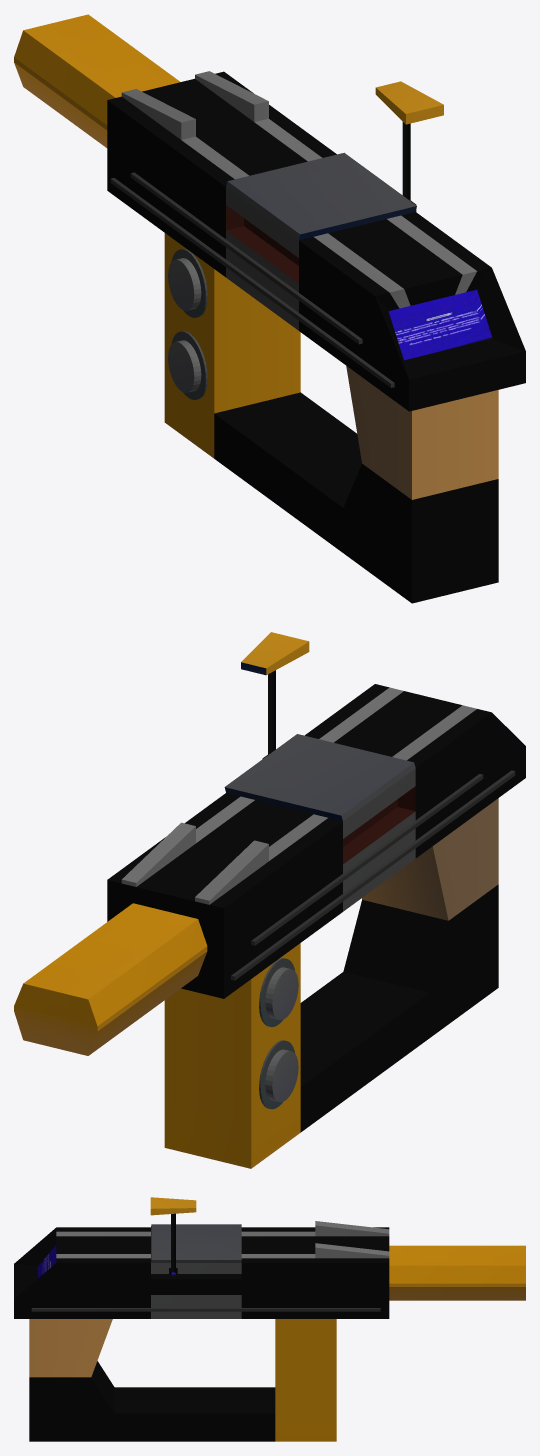
The model's file is SpaceGun2.glb.
3 views of the same model, one above another, from view 1: azimuth 30°, elevation 25°; view 2: azimuth 150°, elevation 25°; view 3: azimuth 270°, elevation 25° (orthographic). The views are drawn at different scales.
Parts seen in each view (by area): view 1: Cube; view 2: Cube; view 3: Cube.
Part boxes in pixels (x1,y1,x2,y2): Cube: [14, 14, 525, 603]; Cube: [14, 632, 525, 1168]; Cube: [14, 1197, 525, 1441].
Bounding box in the file's own units: 3.44 × 8.74 × 16.49.
2 materials, 2 textured.
